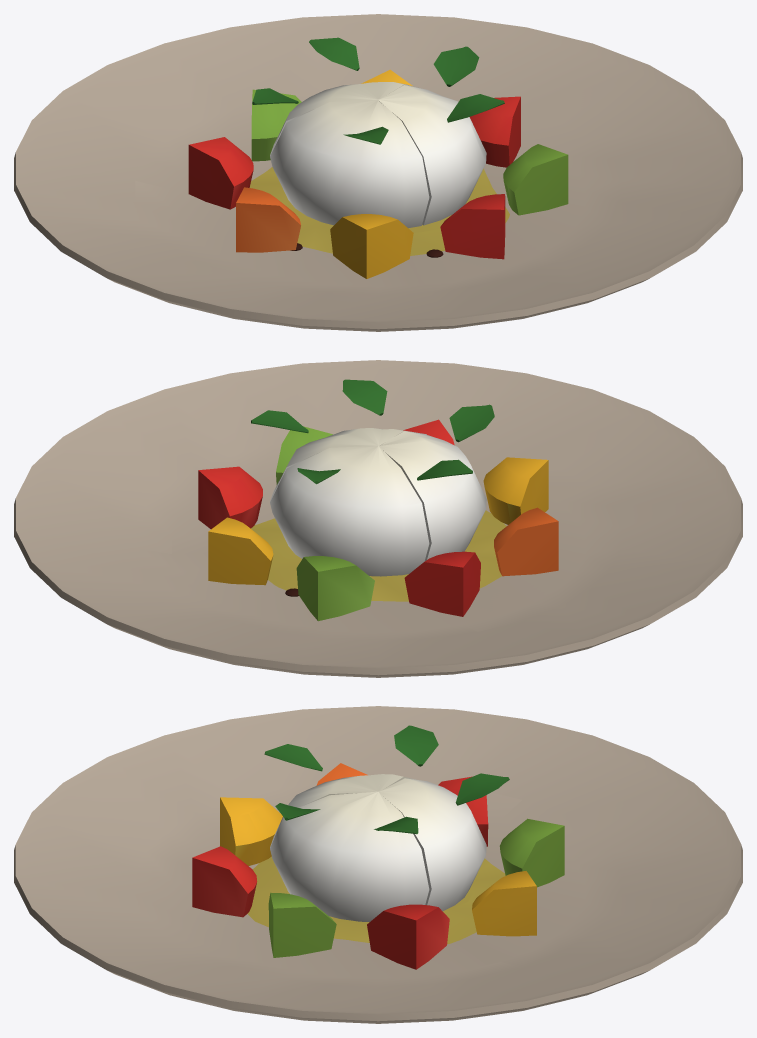
Rendered from dish-burrata-lod1.glb.
3 views of the same model, one above another, from view 1: azimuth 30°, elevation 25°; view 2: azimuth 150°, elevation 25°; view 3: azimuth 270°, elevation 25° (orthographic).
Parts seen in each view (by area): view 1: burrata.lod1__table warm glaze, burrata.lod1__food glaze, burrata.lod1__food; view 2: burrata.lod1__table warm glaze, burrata.lod1__food glaze, burrata.lod1__food; view 3: burrata.lod1__table warm glaze, burrata.lod1__food glaze, burrata.lod1__food.
Part boxes in pixels (<box>): burrata.lod1__table warm glaze: <box>14,14,742,331</box>; burrata.lod1__food glaze: <box>188,69,568,278</box>; burrata.lod1__food: <box>252,37,504,144</box>; burrata.lod1__table warm glaze: <box>14,360,742,677</box>; burrata.lod1__food glaze: <box>198,419,558,621</box>; burrata.lod1__food: <box>251,379,494,484</box>; burrata.lod1__table warm glaze: <box>14,706,742,1023</box>; burrata.lod1__food glaze: <box>192,763,564,969</box>; burrata.lod1__food: <box>264,725,509,834</box>.
Bounding box in the file's own units: 0.27 × 0.0567 × 0.2685.
